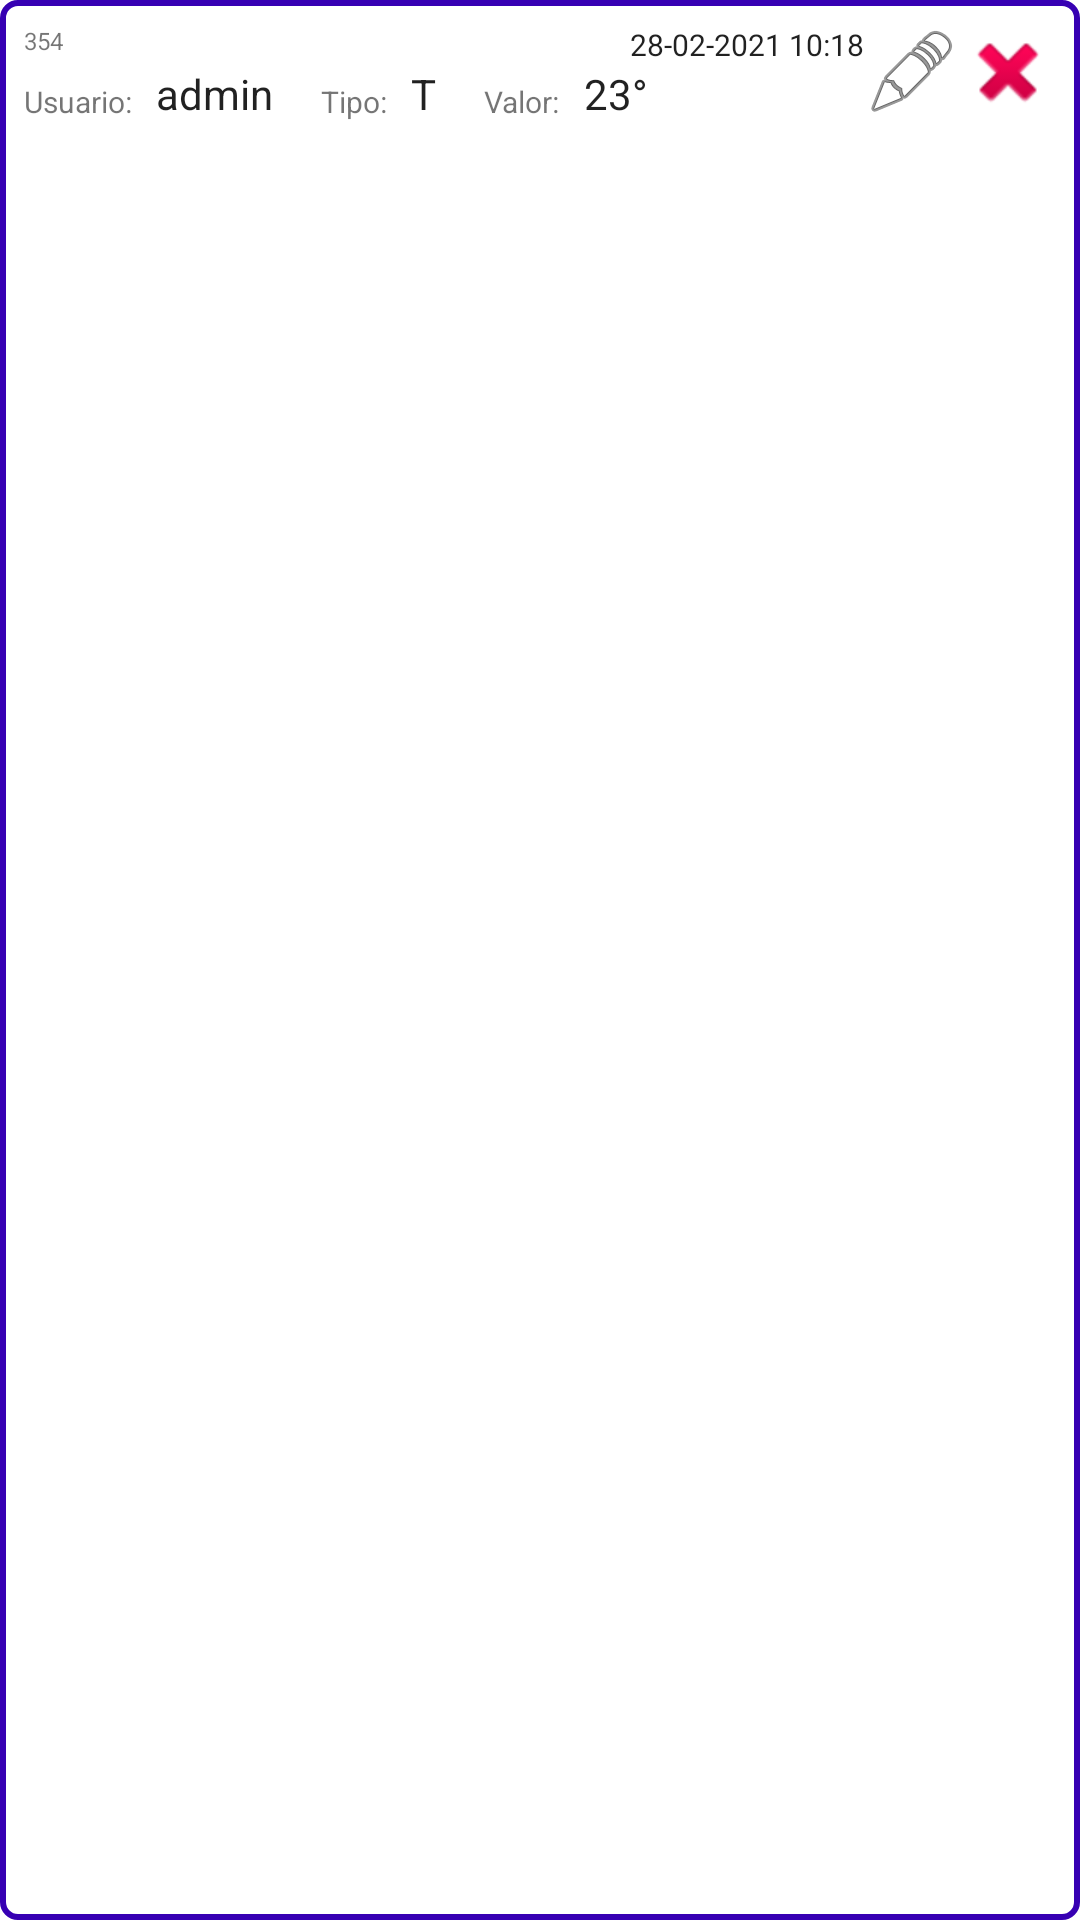

Locate icon controls on the screen. Image size 1080 x 1920, boxes as {"left": x1, "top": y1, "right": x2, "bottom": y2}.
delete: {"left": 977, "top": 43, "right": 1039, "bottom": 102}
edit: {"left": 871, "top": 31, "right": 952, "bottom": 112}
